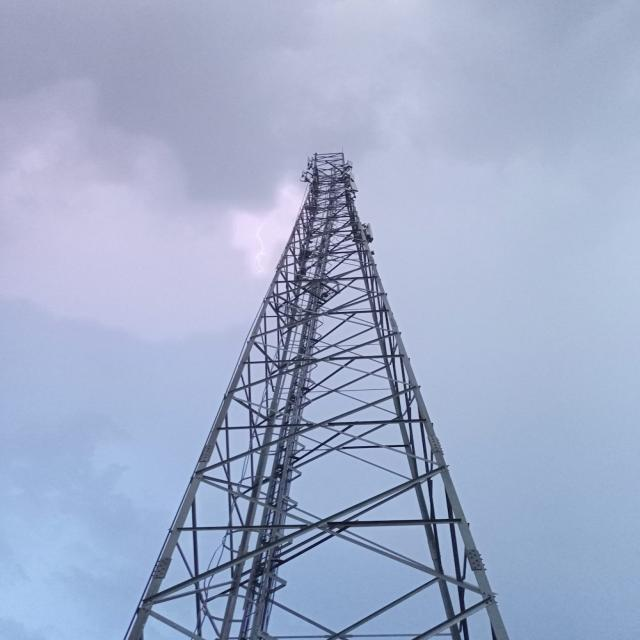transmission tower: (110, 112, 538, 610)
